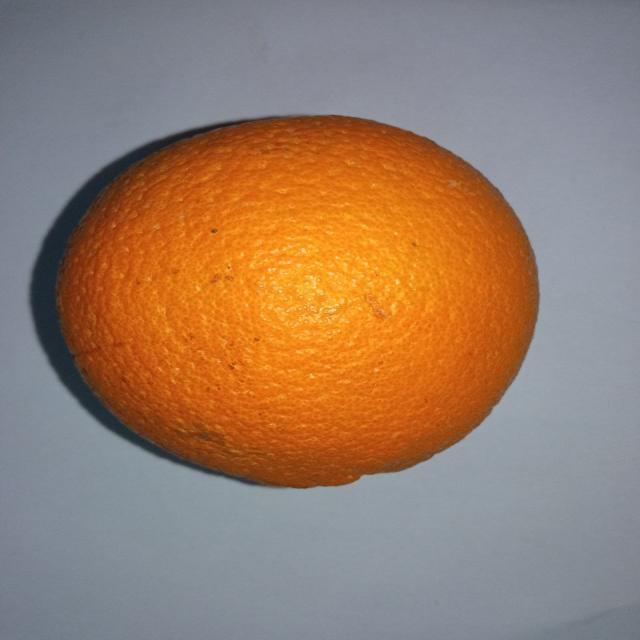fresh_orange: (58, 115, 542, 485)
